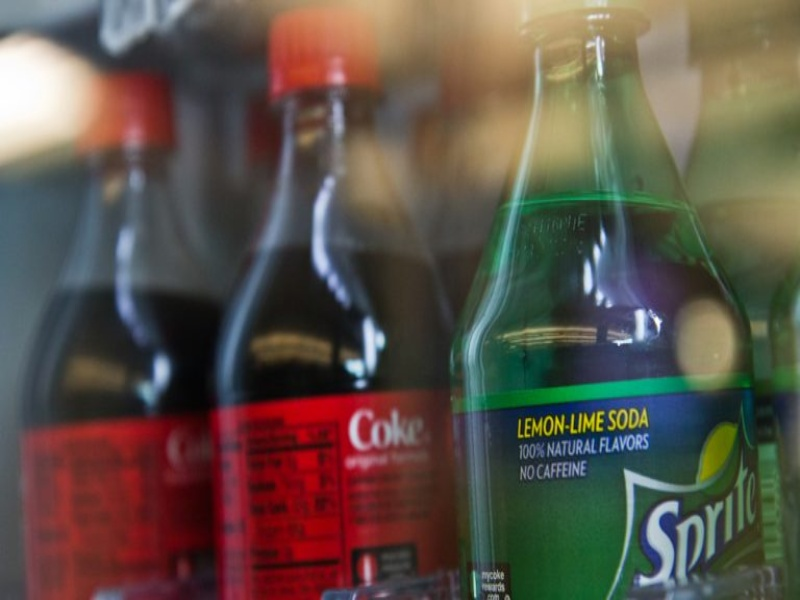Plastic bottle: (408, 14, 766, 599), (181, 19, 478, 599)
